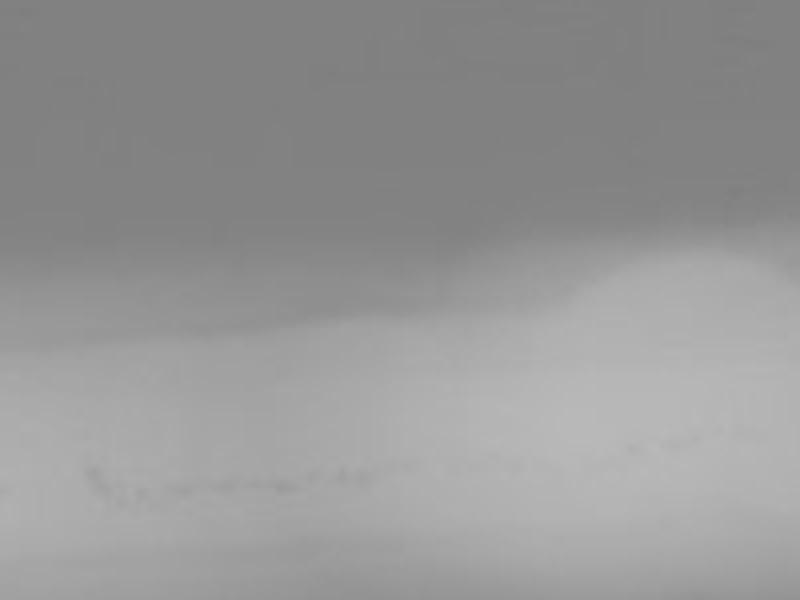defect: (211, 476, 238, 499), (165, 476, 193, 497), (350, 464, 373, 489), (81, 463, 103, 483), (275, 475, 298, 494), (134, 484, 154, 503), (116, 490, 134, 509), (302, 467, 318, 483), (332, 465, 347, 480)
